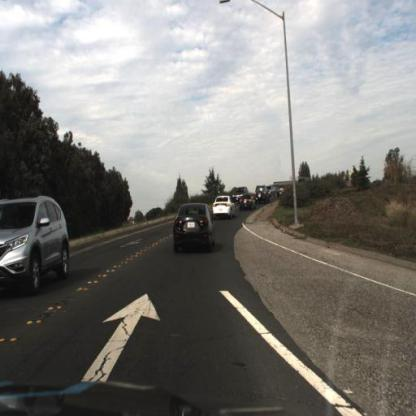car: (1, 193, 71, 289), (173, 203, 217, 254), (213, 194, 238, 222), (213, 194, 236, 222), (255, 182, 272, 208), (239, 193, 255, 214), (276, 185, 292, 204)
